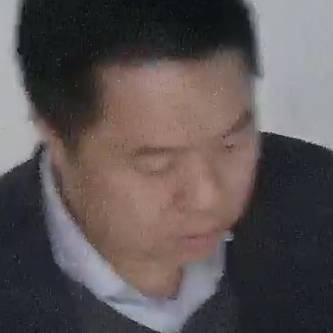cb: (37, 42, 280, 285)
